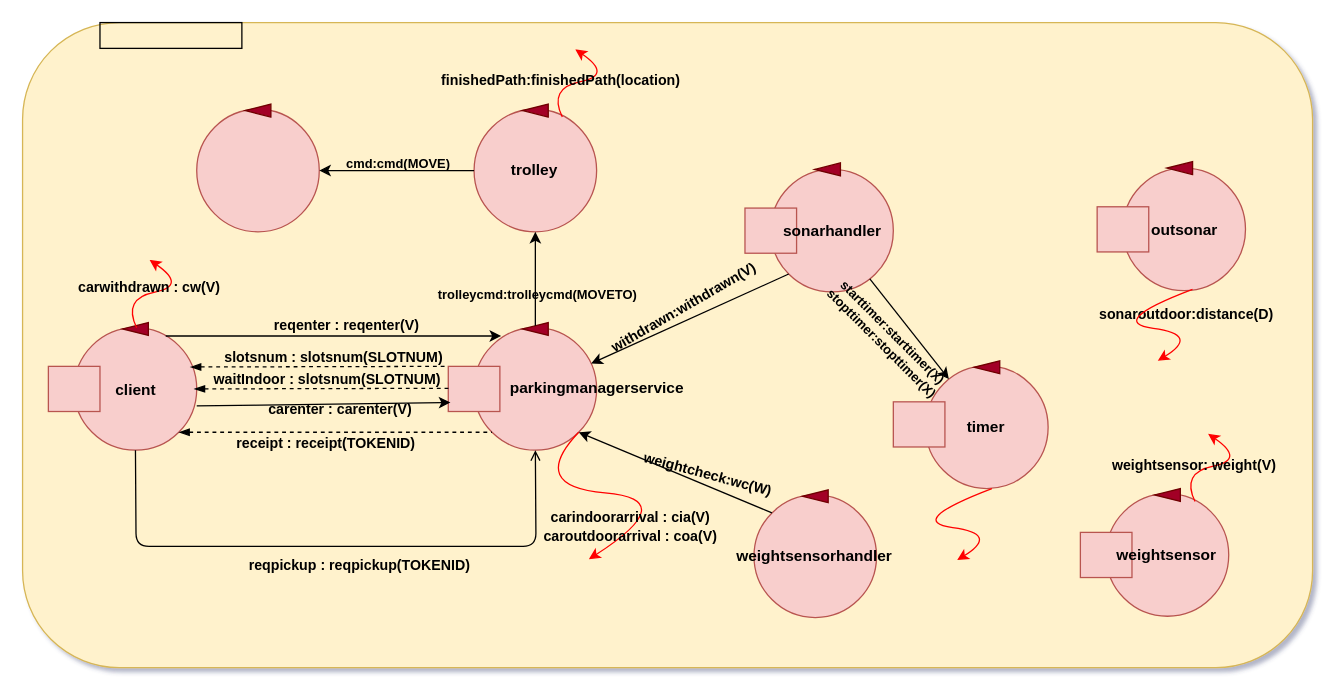
Image size: 1343x698. Some labels were removed from this diagram. The shapes that lost their labels are listed below. From the top down, each one's centre as x and y in pixels, then its label:
At (170,34): "CtxParkingservice".
At (257,170): "basicrobot".
